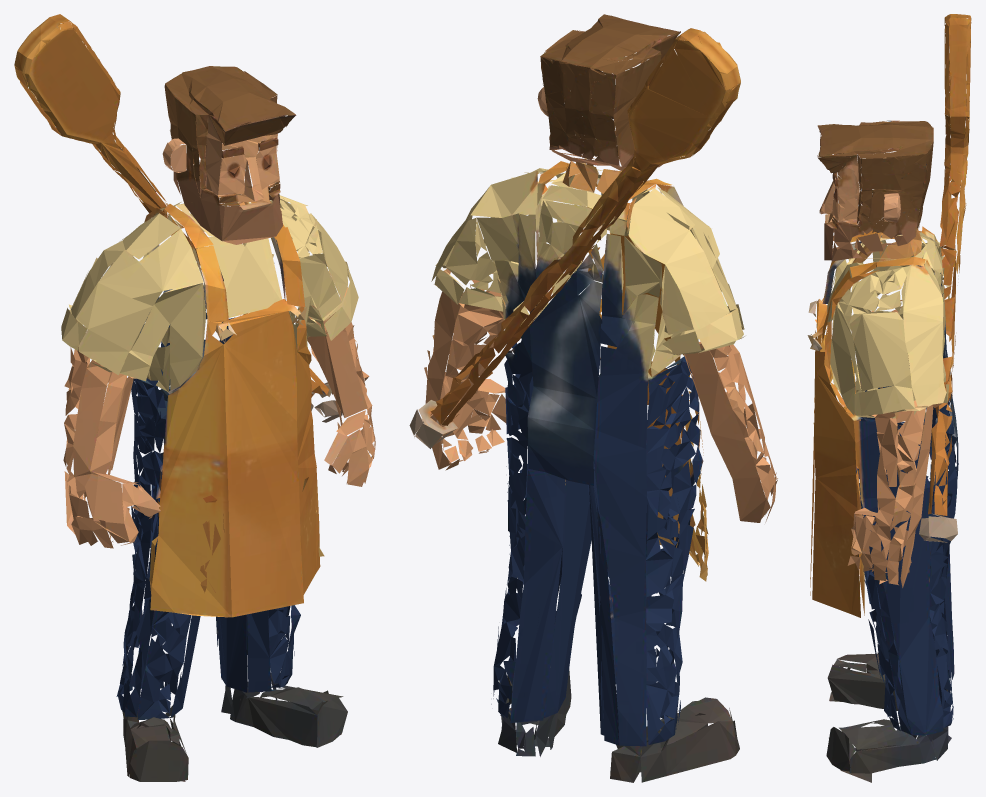
File: habitant.glb
The picture shows the model from 3 angles, left to right: view 1: azimuth 30°, elevation 25°; view 2: azimuth 150°, elevation 25°; view 3: azimuth 270°, elevation 25°; orthographic projection. The views are drawn at different scales.
Visible parts, largest first — view 1: world; view 2: world; view 3: world.
Part boxes in pixels (x1=…): world: x1=14, y1=14, x2=375, y2=781; world: x1=409, y1=14, x2=777, y2=782; world: x1=807, y1=14, x2=971, y2=782.
Bounding box in the file's own units: 0.4662 × 1.01 × 0.2254.
Materials: 1 (1 with a texture image).
